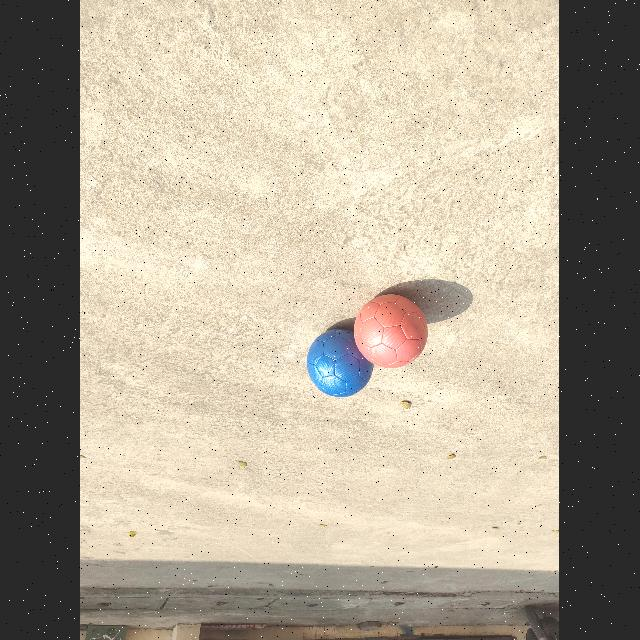B: (308, 329, 375, 397)
R: (354, 294, 429, 368)
